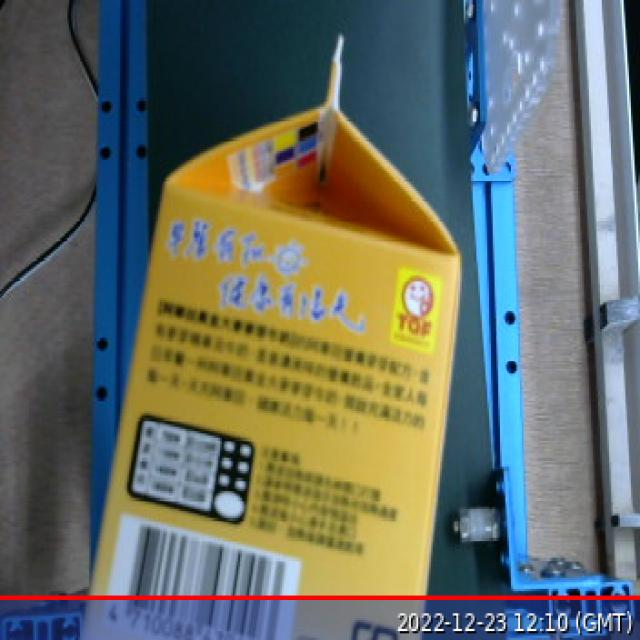non_white_jug: (46, 40, 485, 636)
